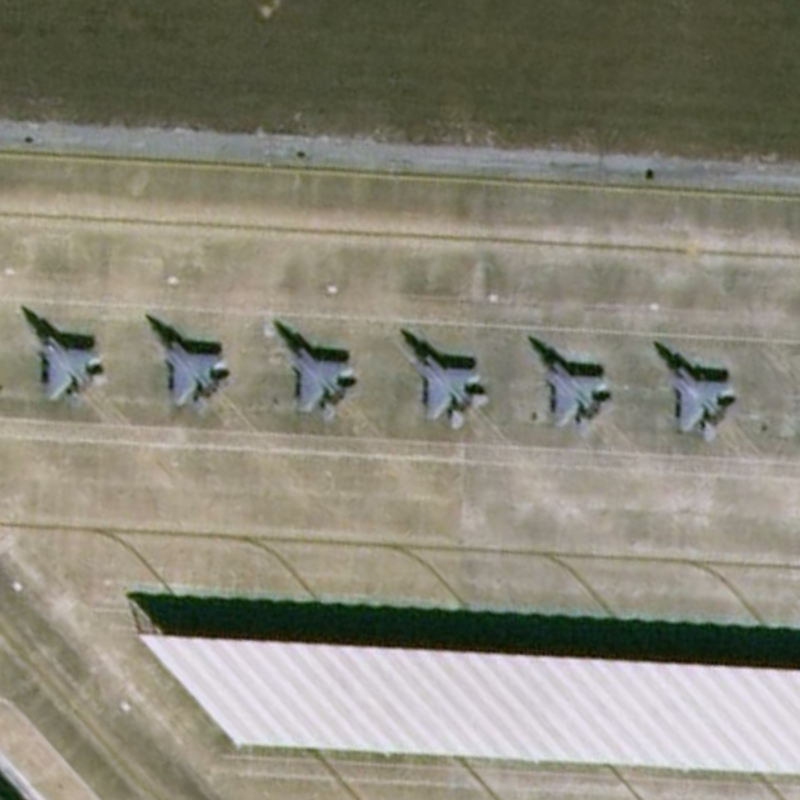A13: (11, 295, 115, 409), (266, 311, 367, 428), (648, 332, 746, 449), (396, 323, 497, 436), (139, 311, 237, 413), (521, 334, 618, 433)
